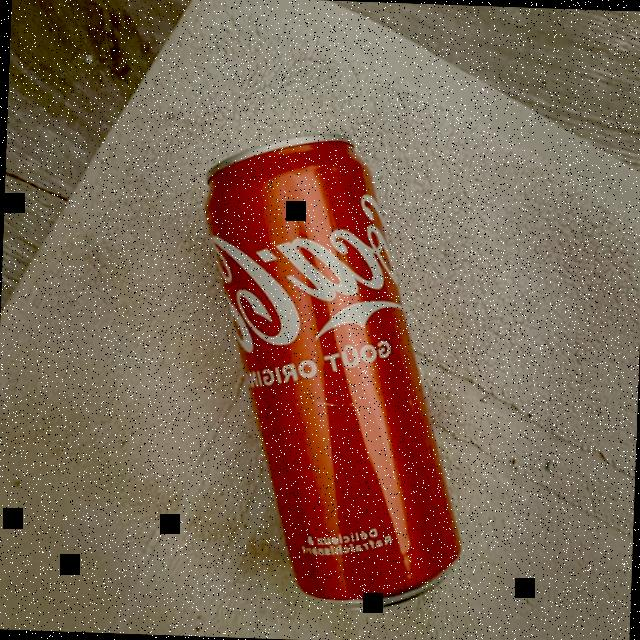can: (186, 93, 484, 630)
